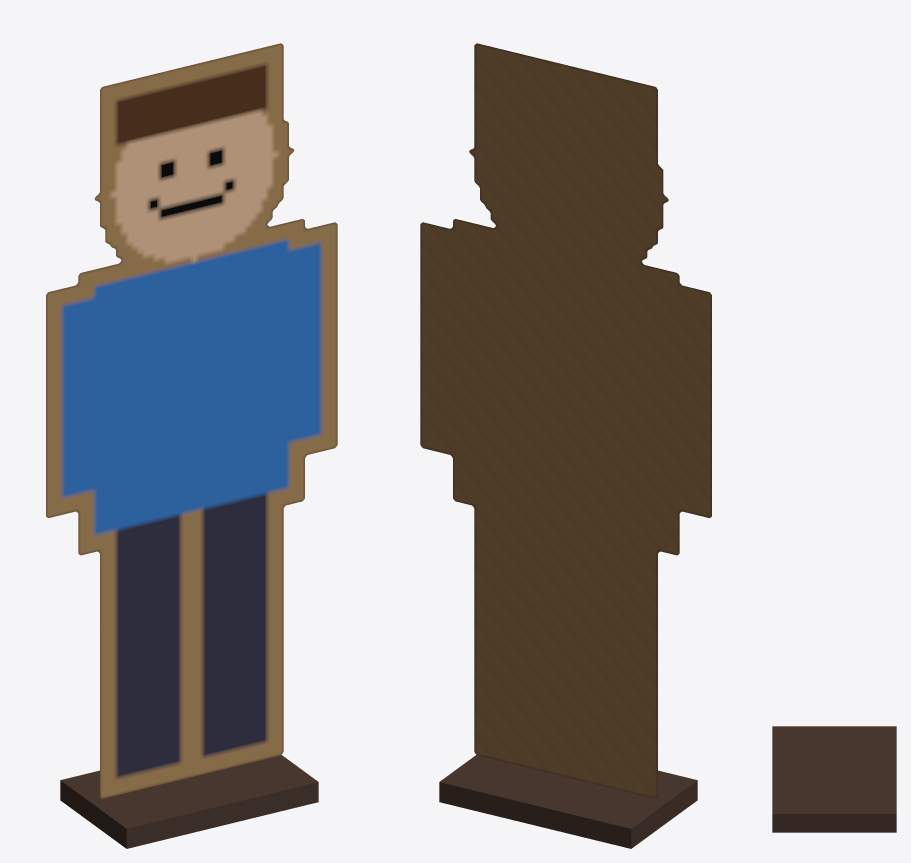
File: recorte_visitante.glb
3 renders of one model, left to right at view 1: azimuth 30°, elevation 25°; view 2: azimuth 150°, elevation 25°; view 3: azimuth 270°, elevation 25°, orthographic. The views are drawn at different scales.
Parts seen in each view (by area): view 1: _MeshInstance3D_672_2, _MeshInstance3D_674_0; view 2: _MeshInstance3D_673_1, _MeshInstance3D_674_0; view 3: _MeshInstance3D_674_0.
Part boxes in pixels (box(x1,y1,x2,y2)): _MeshInstance3D_672_2: box(46, 43, 337, 798); _MeshInstance3D_674_0: box(60, 755, 318, 848); _MeshInstance3D_673_1: box(420, 43, 711, 798); _MeshInstance3D_674_0: box(439, 755, 697, 848); _MeshInstance3D_674_0: box(772, 726, 896, 832).
Bounding box in the file's own units: 0.9 × 1.85 × 0.3.
Materials: 3 (2 with a texture image).
